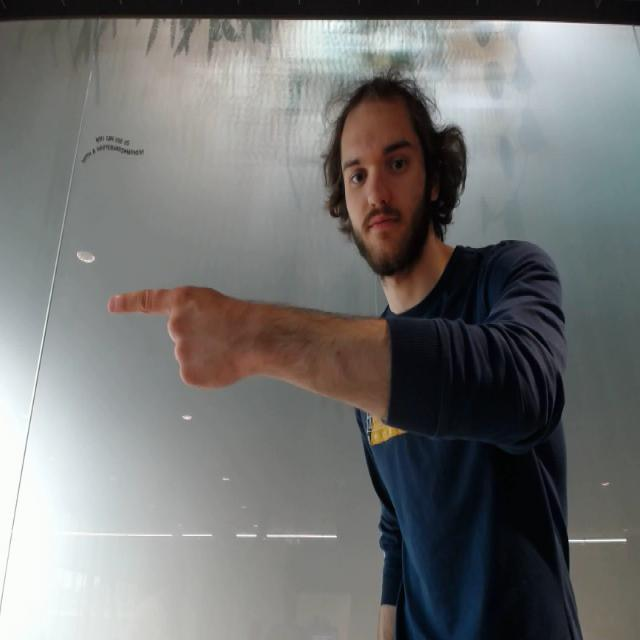left: (106, 279, 256, 393)
